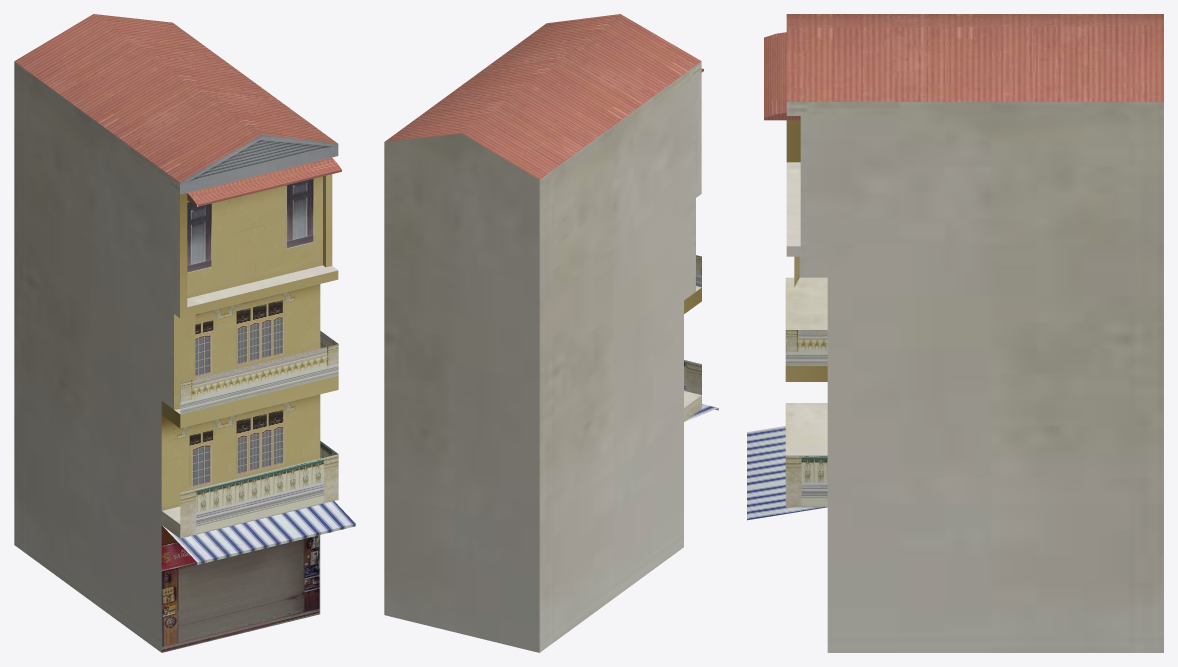
3 renders of one model, left to right at view 1: azimuth 30°, elevation 25°; view 2: azimuth 150°, elevation 25°; view 3: azimuth 270°, elevation 25°, orthographic. The views are drawn at different scales.
Visible parts, largest first — view 1: HN1037___Xupito_Bar; view 2: HN1037___Xupito_Bar; view 3: HN1037___Xupito_Bar.
Boxes of the visible parts, box(x1,y1,x2,y2) form: HN1037___Xupito_Bar: box(14, 14, 355, 652); HN1037___Xupito_Bar: box(384, 14, 718, 652); HN1037___Xupito_Bar: box(747, 14, 1163, 652).
Size of the model in its own units: 5.28 by 16.27 by 10.55.
1 material, 1 textured.
